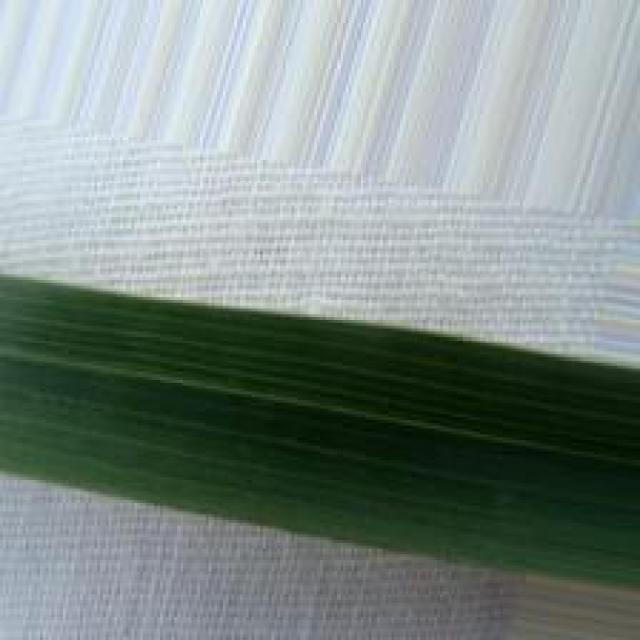Healthy: (0, 274, 640, 589)
